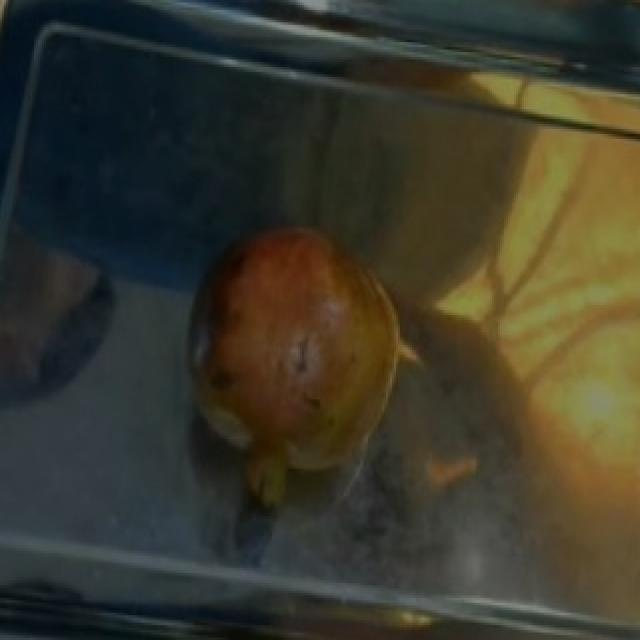fruit: (170, 199, 434, 501)
